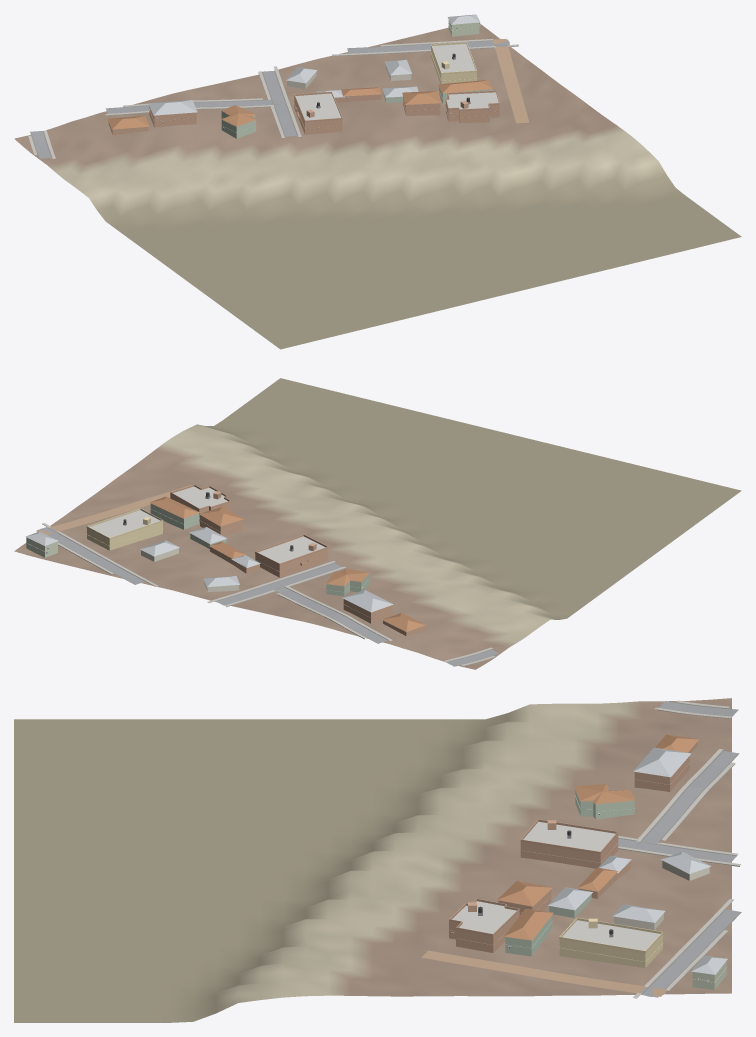
3 renders of one model, top to bottom at view 1: azimuth 30°, elevation 25°; view 2: azimuth 150°, elevation 25°; view 3: azimuth 270°, elevation 25°, orthographic. The views are drawn at different scales.
Parts seen in each view (by area): view 1: Terrain-col, Buildings-col, Roads-col, Sidewalks-col, Details; view 2: Terrain-col, Buildings-col, Roads-col, Sidewalks-col, Details; view 3: Terrain-col, Buildings-col, Roads-col, Sidewalks-col, Details.
Part boxes in pixels (x1,y1,x2,y2): Terrain-col: (14, 24, 741, 349); Buildings-col: (107, 14, 499, 138); Roads-col: (30, 38, 529, 158); Sidewalks-col: (28, 39, 518, 158); Details: (149, 22, 499, 132); Terrain-col: (14, 378, 741, 669); Buildings-col: (25, 486, 425, 636); Roads-col: (36, 485, 499, 666); Sidewalks-col: (42, 523, 495, 666); Details: (26, 484, 392, 618); Terrain-col: (14, 698, 731, 1022); Buildings-col: (449, 734, 727, 989); Roads-col: (421, 701, 741, 997); Sidewalks-col: (618, 700, 740, 998); Details: (449, 762, 726, 983).
Size of the model in its own units: 260 by 20.36 by 260.
